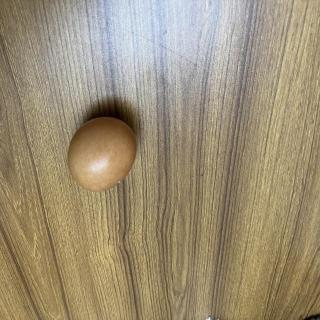Telur: (65, 116, 143, 200)
